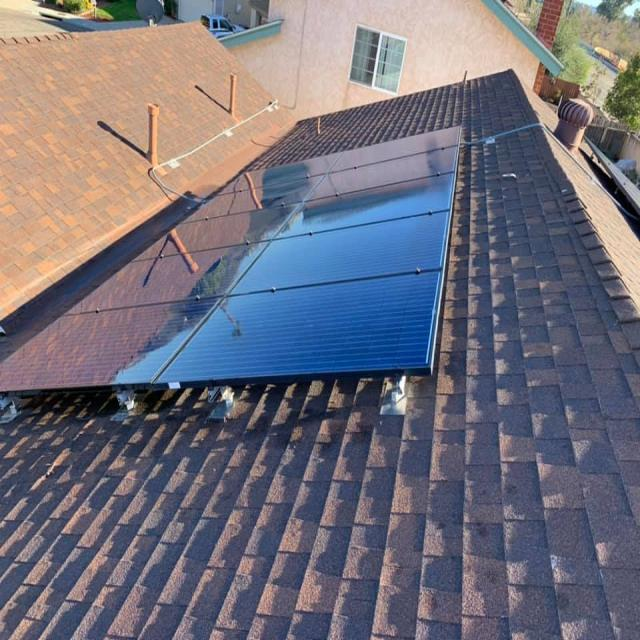clean-solar-panel: (0, 127, 460, 393)
